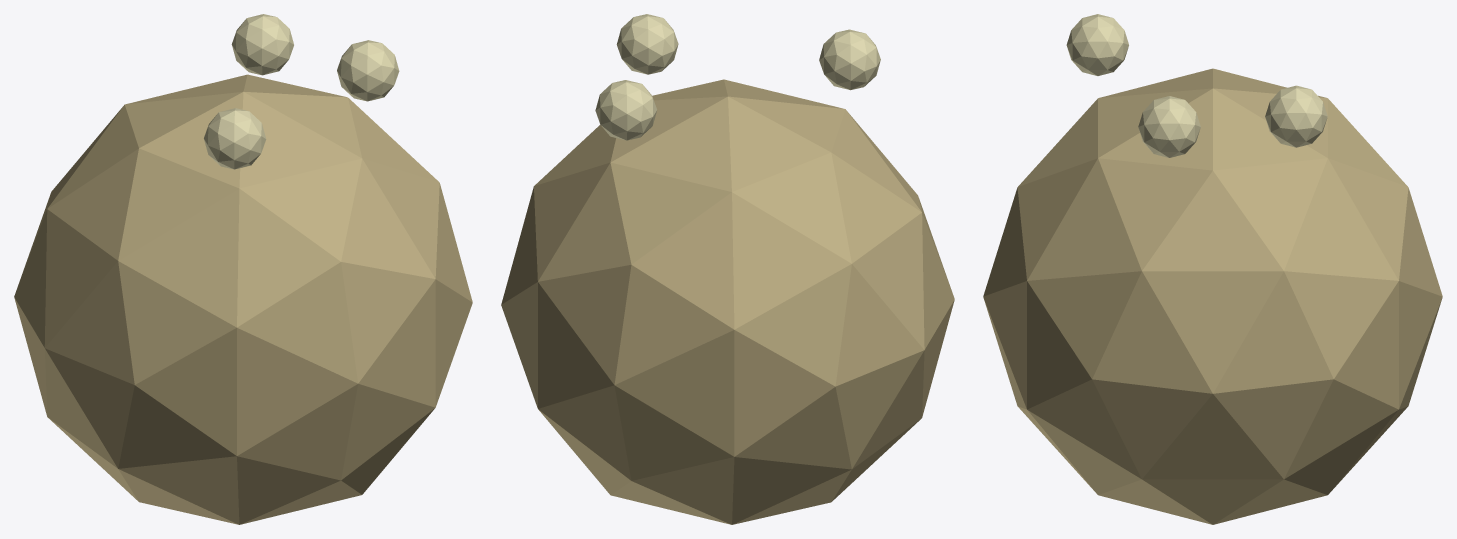
File: eternity_horror.glb
3 renders of one model, left to right at view 1: azimuth 30°, elevation 25°; view 2: azimuth 150°, elevation 25°; view 3: azimuth 270°, elevation 25°, orthographic.
Parts seen in each view (by area): view 1: geometry_0; view 2: geometry_0; view 3: geometry_0.
Boxes of the visible parts, box(x1,y1,x2,y2) form: geometry_0: box(14, 14, 472, 524); geometry_0: box(501, 14, 954, 524); geometry_0: box(983, 14, 1442, 524).
Size of the model in its own units: 0.88 by 0.9648 by 0.88.
